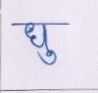u_matra: (36, 50, 60, 65)
